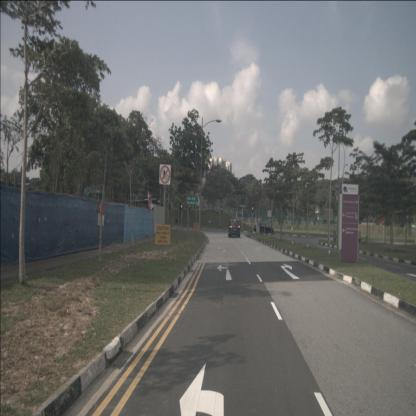vehicle-car: (254, 221, 274, 234), (228, 218, 240, 238)
